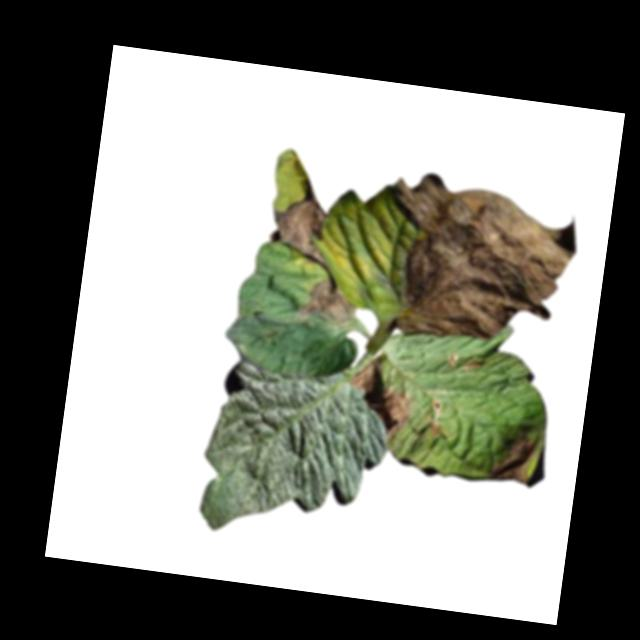Late_blight: (368, 167, 582, 356), (266, 179, 338, 268), (346, 357, 416, 442), (297, 273, 366, 328), (489, 427, 545, 486), (444, 350, 488, 377), (425, 399, 448, 442)
